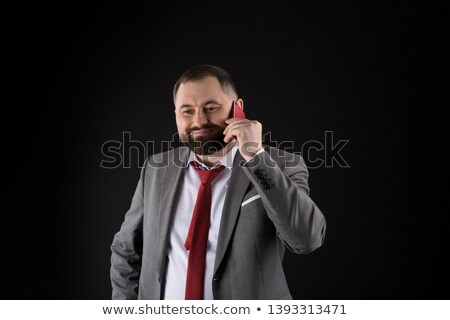phone: (227, 102, 246, 140)
talk: (178, 98, 266, 156)
